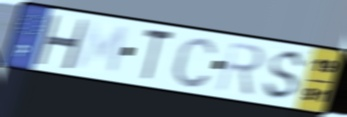C: (170, 34, 219, 90)
H: (33, 12, 90, 71)
M: (73, 19, 131, 77)
R: (214, 39, 267, 98)
S: (260, 48, 309, 103)
T: (139, 26, 177, 83)
